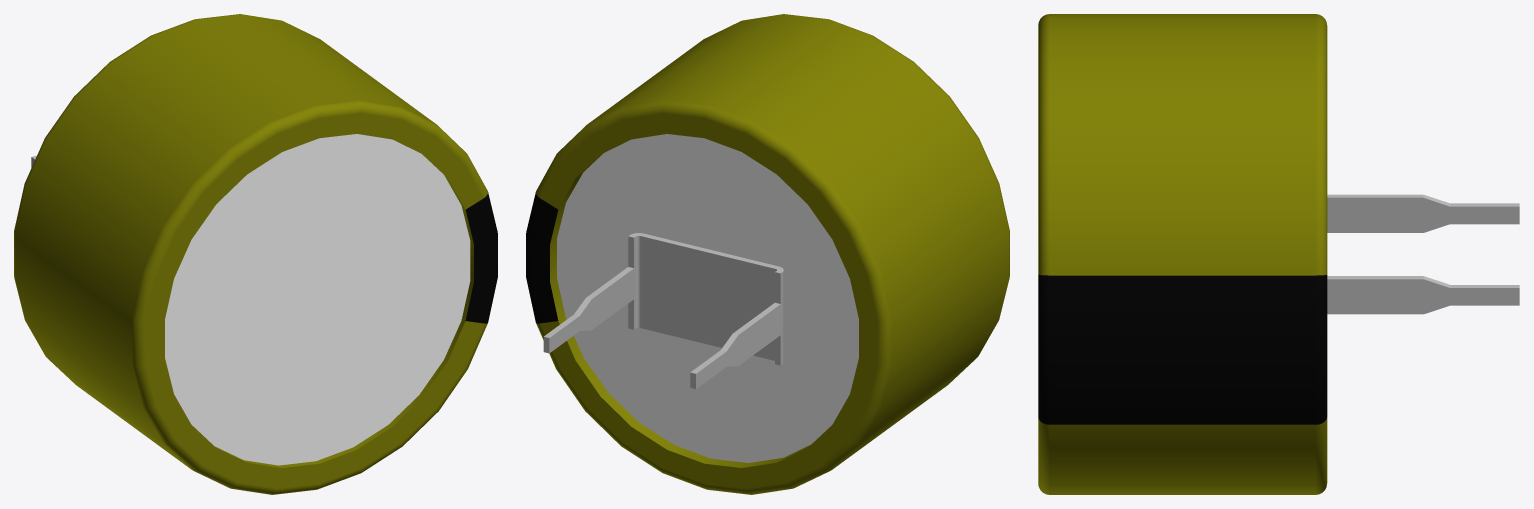
File: JLCPCB_Assembly_0_47F5_5VDC.3dmodel.glb
3 renders of one model, left to right at view 1: azimuth 30°, elevation 25°; view 2: azimuth 150°, elevation 25°; view 3: azimuth 270°, elevation 25°, orthographic. The views are drawn at different scales.
Visible parts, largest first — view 1: =>[0:1:1:1]; view 2: =>[0:1:1:1]; view 3: =>[0:1:1:1].
Part boxes in pixels (left/top/right/bottom): =>[0:1:1:1]: left=14, top=14, right=497, bottom=494; =>[0:1:1:1]: left=526, top=14, right=1009, bottom=494; =>[0:1:1:1]: left=1038, top=14, right=1519, bottom=494.
Bounding box in the file's own units: 12.41 × 12.5 × 12.5.
